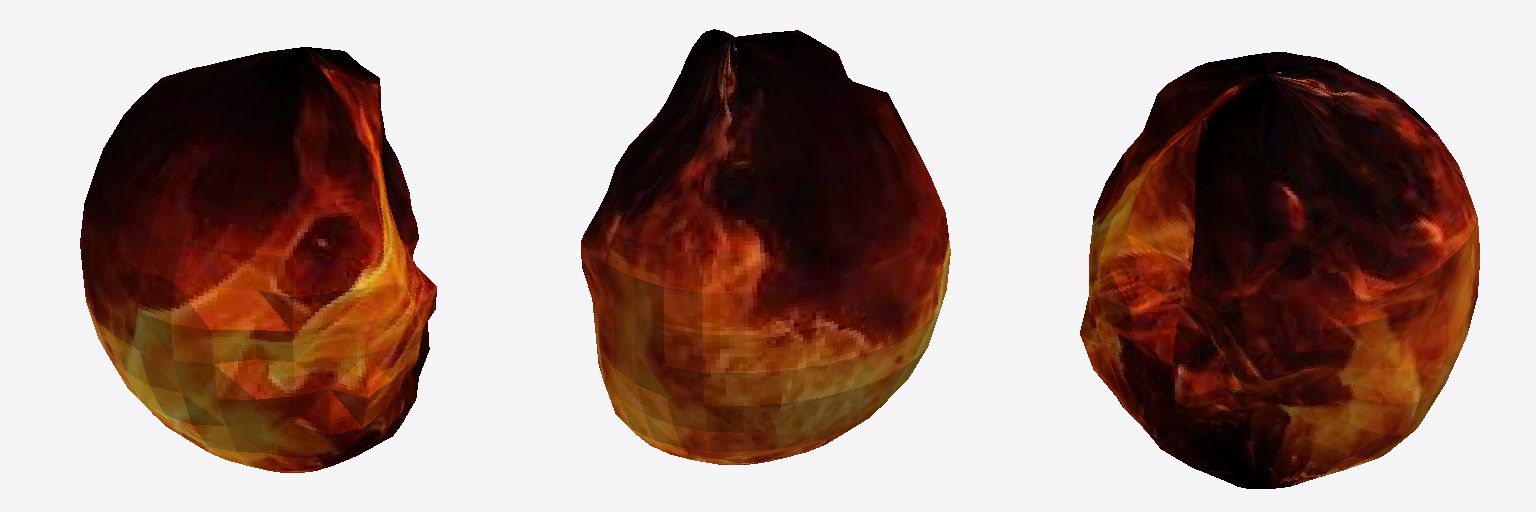
3 renders of one model, left to right at view 1: azimuth 30°, elevation 25°; view 2: azimuth 150°, elevation 25°; view 3: azimuth 270°, elevation 25°, orthographic.
Parts seen in each view (by area): view 1: 球.004; view 2: 球.004; view 3: 球.004.
Part boxes in pixels (bbox=[...]): 球.004: bbox=[80, 47, 436, 472]; 球.004: bbox=[581, 29, 950, 464]; 球.004: bbox=[1080, 52, 1479, 488].
Size of the model in its own units: 0.1558 by 0.1989 by 0.1776.
Materials: 1 (1 with a texture image).